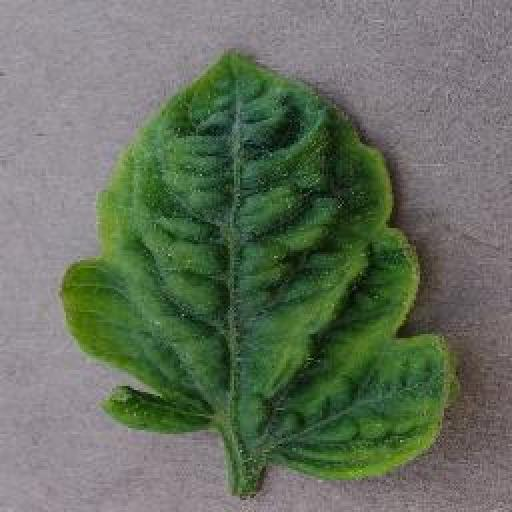Yellow Leaf Curl Virus: (60, 44, 454, 483)
